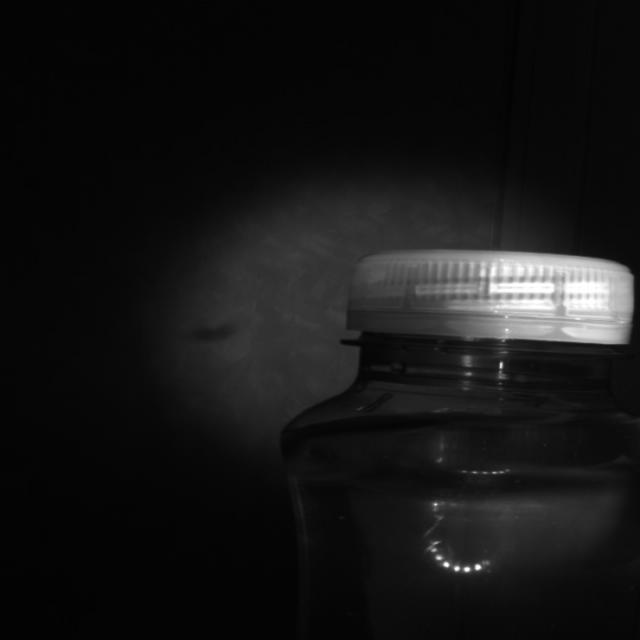Good: (339, 246, 639, 350)
